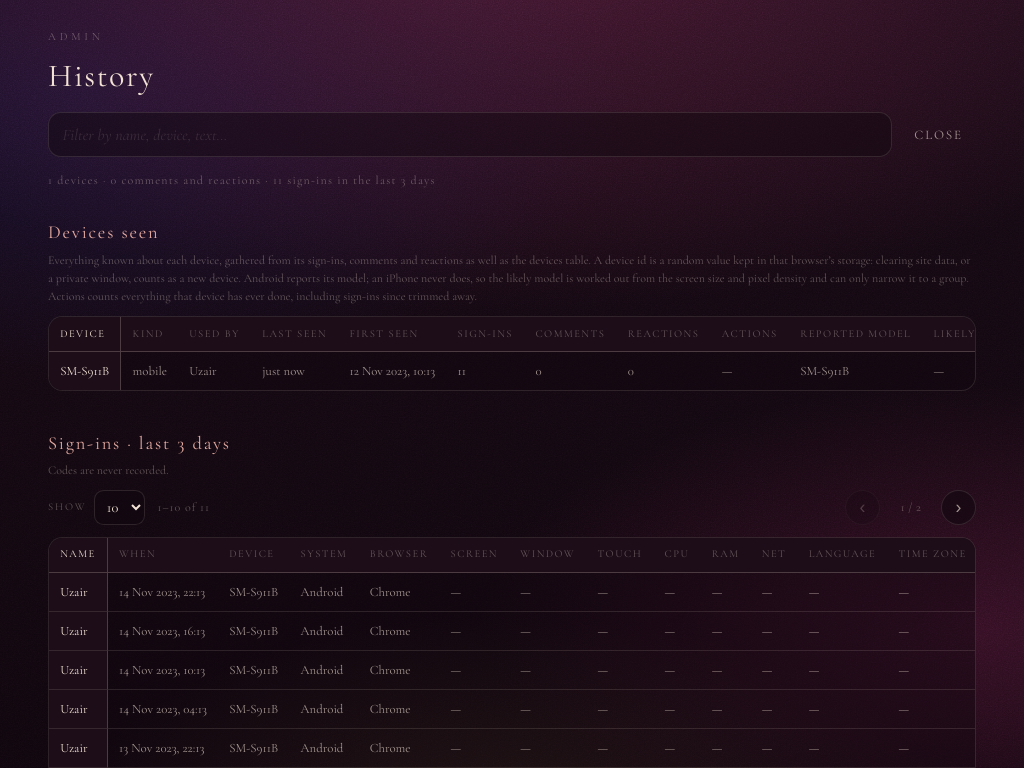
Test: the sign-ins table › pages through the rest
The image size is (1024, 768).
Expected: the text "1 / 2" is shown, [900,500,921,514]
Click the button named "Next page" at (958, 508), box [941,490,976,525]
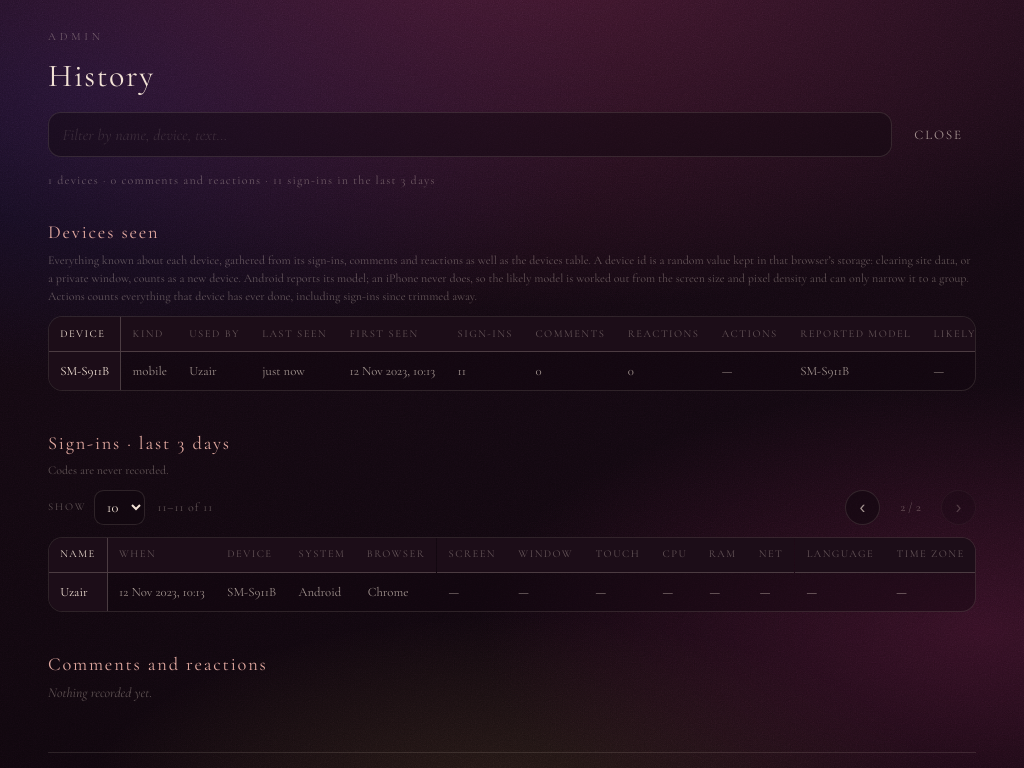
Result: the text "11–11 of 11" is shown at [157,498,213,517]
Click the button named "Previous page" at (862, 508), box [845,490,880,525]
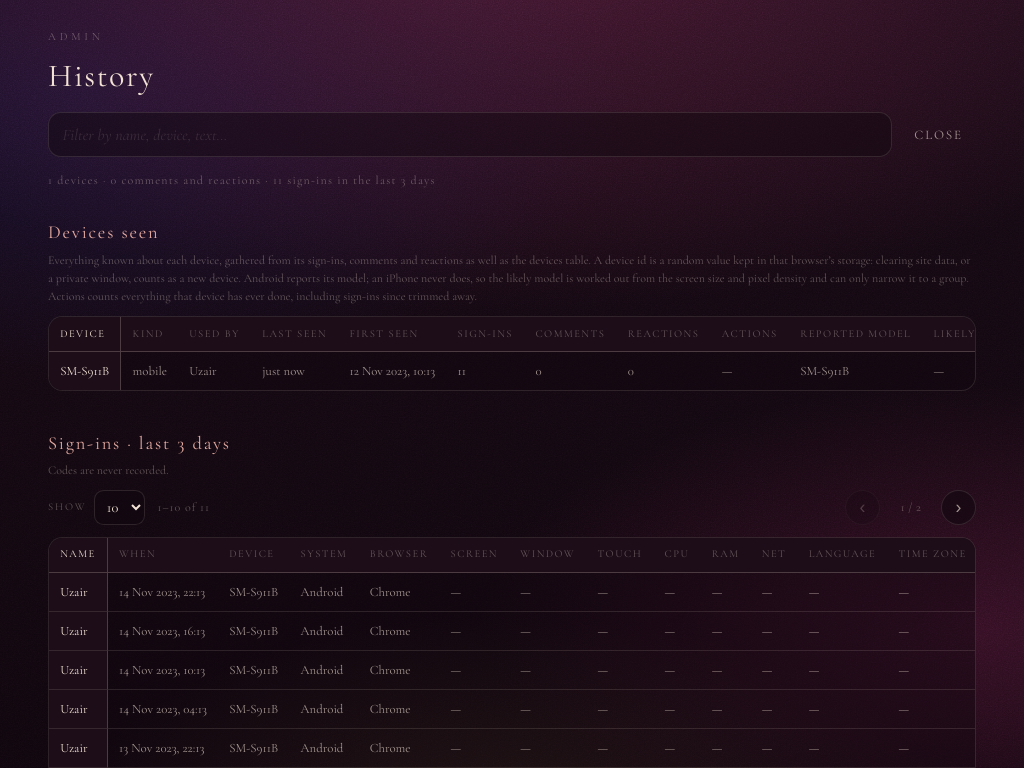
Result: the text "1–10 of 11" is shown at [157,498,210,517]
